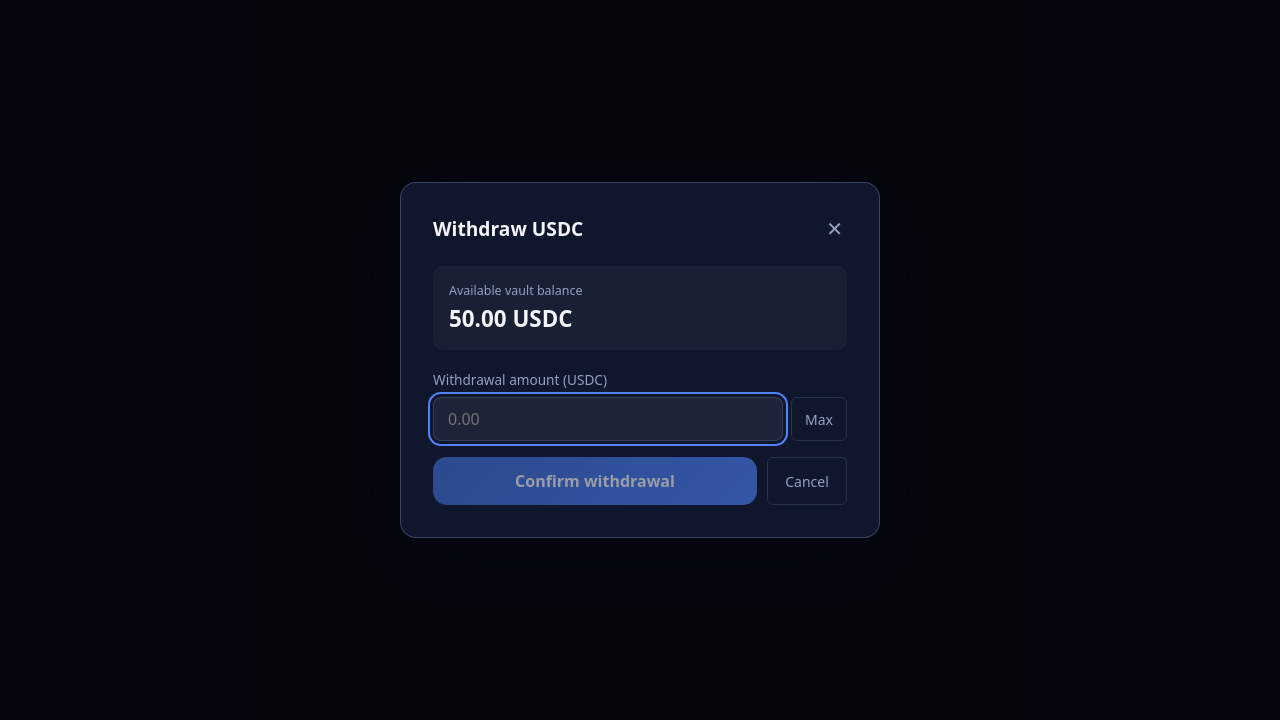
it: WithdrawModal – stage transitions › transitions to approving, then confirmed on success
The width and height of the screenshot is (1280, 720).
Type "10" into the field labelled "Withdrawal amount (USDC)" at point(608, 419), box top-left (433, 397), bottom-right (783, 441)
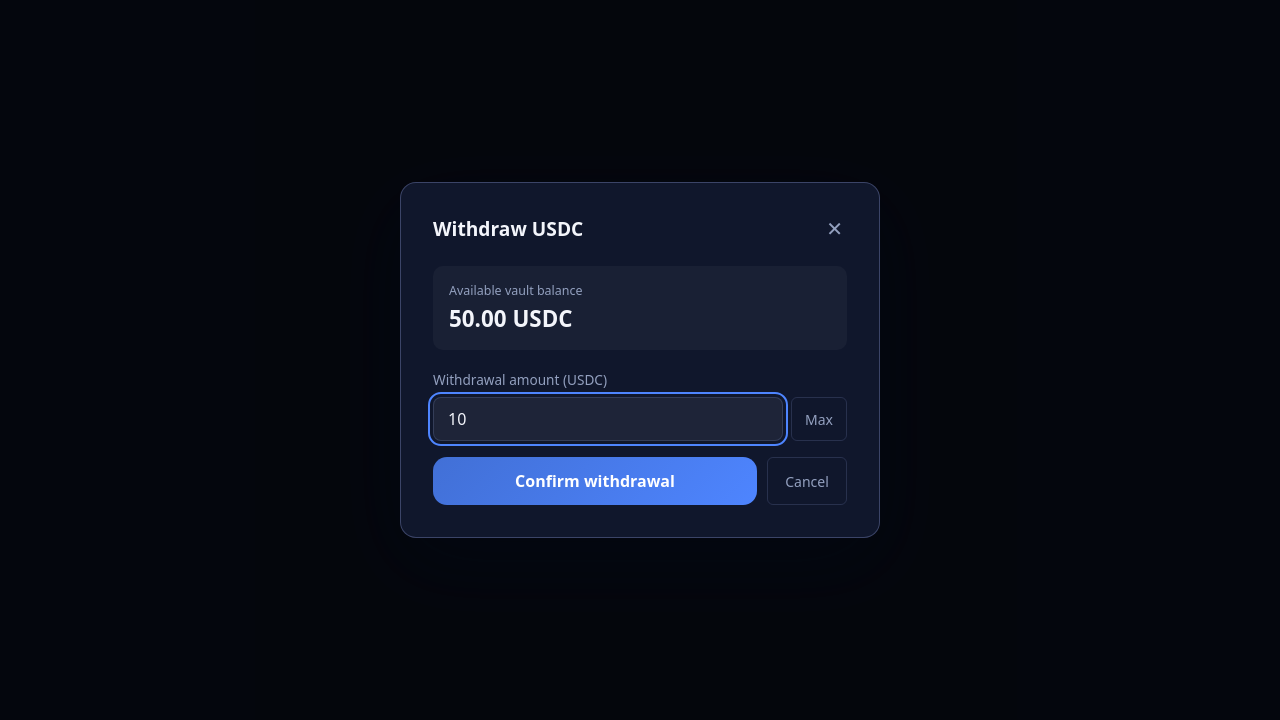
Click the button "Confirm withdrawal" at point(595, 481), box top-left (433, 457), bottom-right (757, 505)
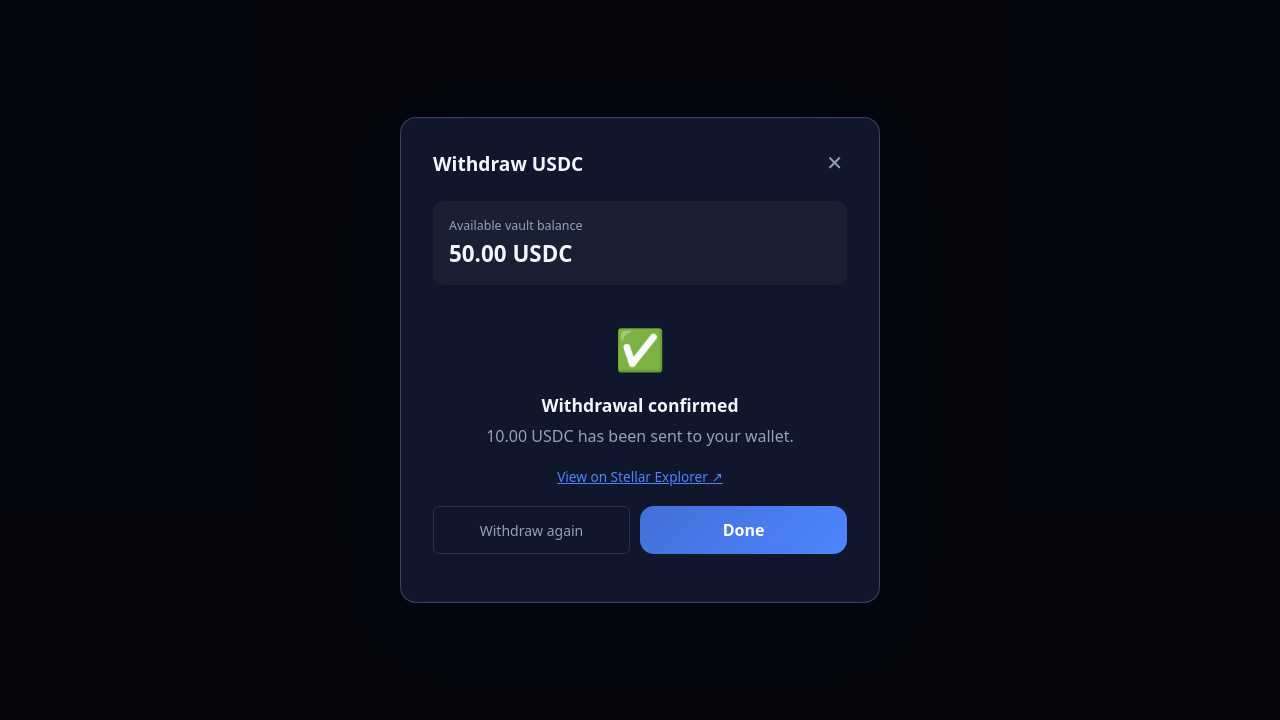
Check: the text "Withdrawal confirmed" is shown, box top-left (542, 393), bottom-right (739, 417)
